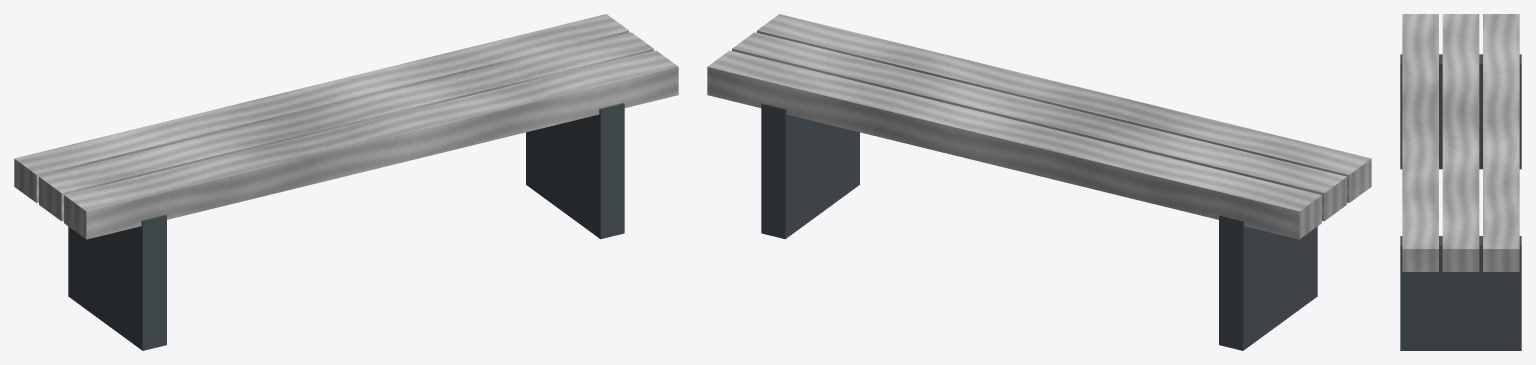
Rendered from bench.glb.
3 renders of one model, left to right at view 1: azimuth 30°, elevation 25°; view 2: azimuth 150°, elevation 25°; view 3: azimuth 270°, elevation 25°, orthographic. The views are drawn at different scales.
Visible parts, largest first — view 1: bench_WoodLight, bench_Steel; view 2: bench_WoodLight, bench_Steel; view 3: bench_WoodLight, bench_Steel.
Boxes of the visible parts, box(x1,y1,x2,y2) form: bench_WoodLight: box(14, 14, 678, 239); bench_Steel: box(68, 103, 624, 350); bench_WoodLight: box(707, 14, 1371, 239); bench_Steel: box(761, 103, 1317, 350); bench_WoodLight: box(1402, 14, 1519, 271); bench_Steel: box(1400, 54, 1521, 350).
Size of the model in its own units: 2.2 by 0.54 by 0.48.
2 materials, 1 textured.
